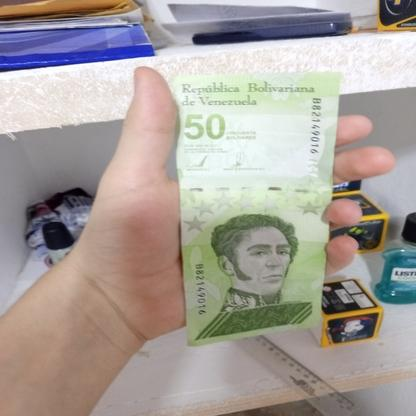fifty-front-vef: (172, 71, 340, 346)
